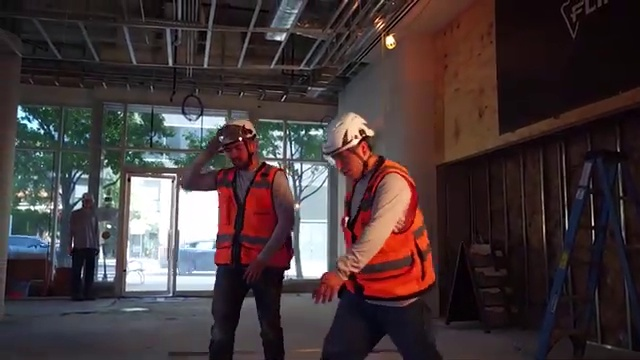helmet: (319, 107, 378, 152), (213, 113, 270, 152)
jacket: (334, 156, 441, 303), (212, 161, 290, 274)
